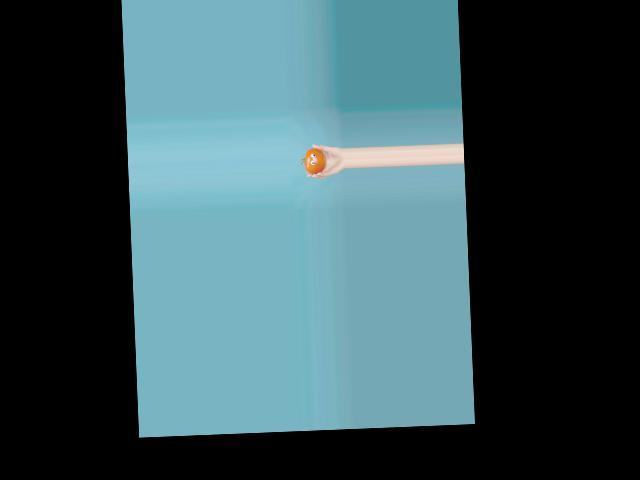tomato: (303, 147, 327, 174)
